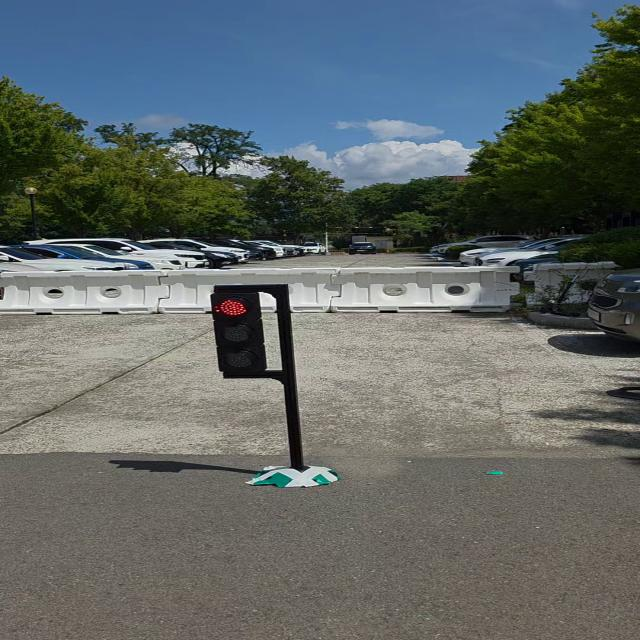red: (207, 290, 274, 380)
